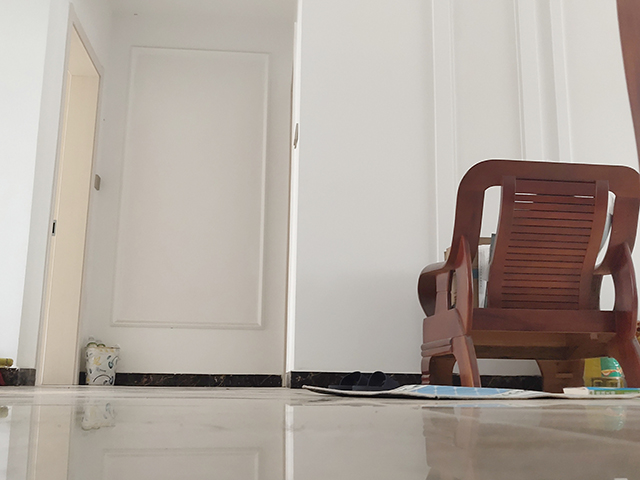book: (560, 386, 640, 399)
carpet: (300, 383, 640, 401)
slippers: (326, 370, 402, 392)
sofa: (416, 158, 640, 389)
trashcan: (82, 344, 122, 386)
